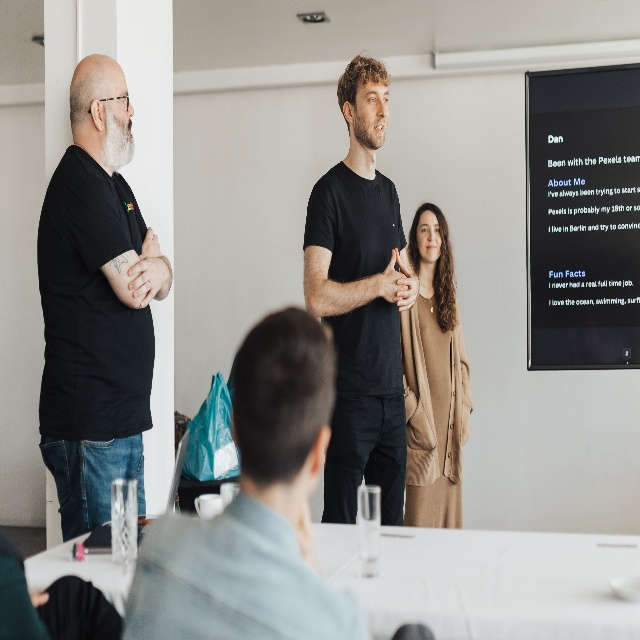Gafas: (88, 92, 129, 115)
Sin_guantes: (127, 254, 168, 308), (380, 249, 409, 305), (394, 247, 417, 312), (140, 226, 162, 257)
